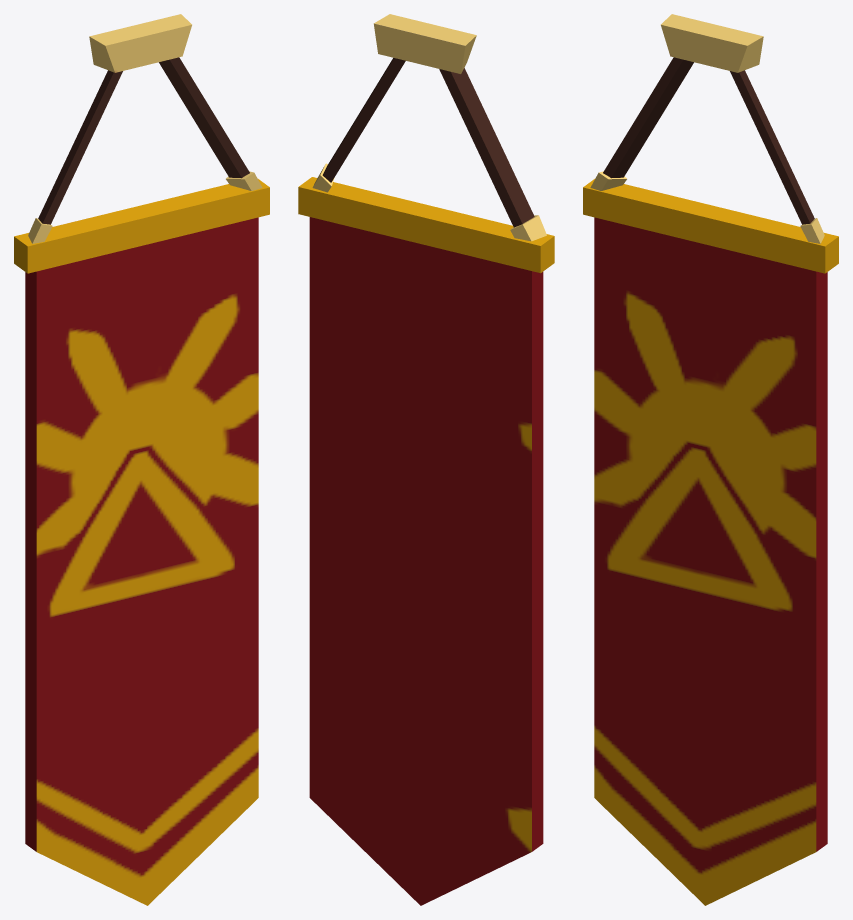
The model's file is flag.fbx.
3 renders of one model, left to right at view 1: azimuth 30°, elevation 25°; view 2: azimuth 150°, elevation 25°; view 3: azimuth 330°, elevation 25°, orthographic.
Parts seen in each view (by area): view 1: Object_2; view 2: Object_2; view 3: Object_2.
Boxes of the visible parts, x1,y1,x2,y2 form: Object_2: (14, 14, 269, 905); Object_2: (298, 14, 554, 905); Object_2: (583, 14, 838, 905).
Bounding box in the file's own units: 166 × 571 × 16.37.
Materials: 1 (1 with a texture image).
